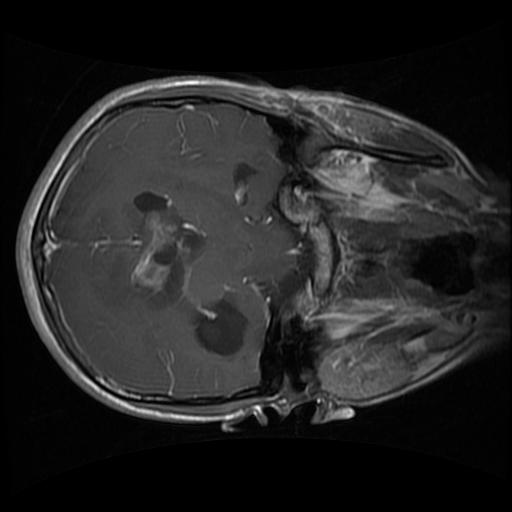glioma: (117, 186, 208, 315)
